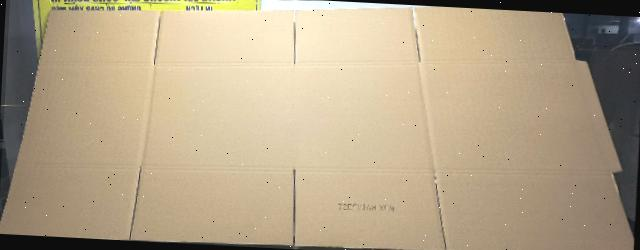box: (0, 6, 634, 250)
